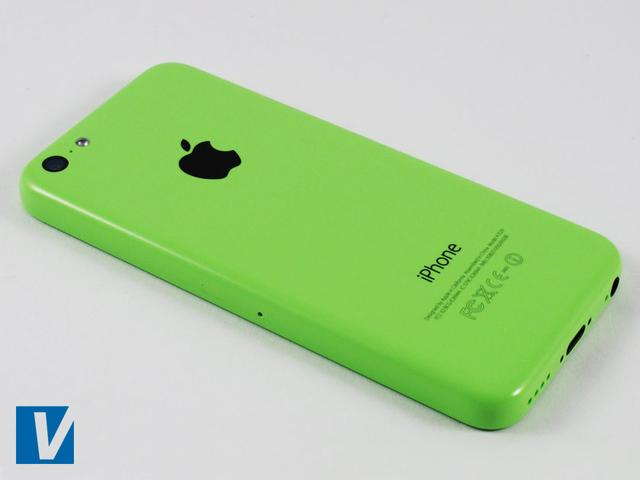apple: (164, 122, 270, 226)
